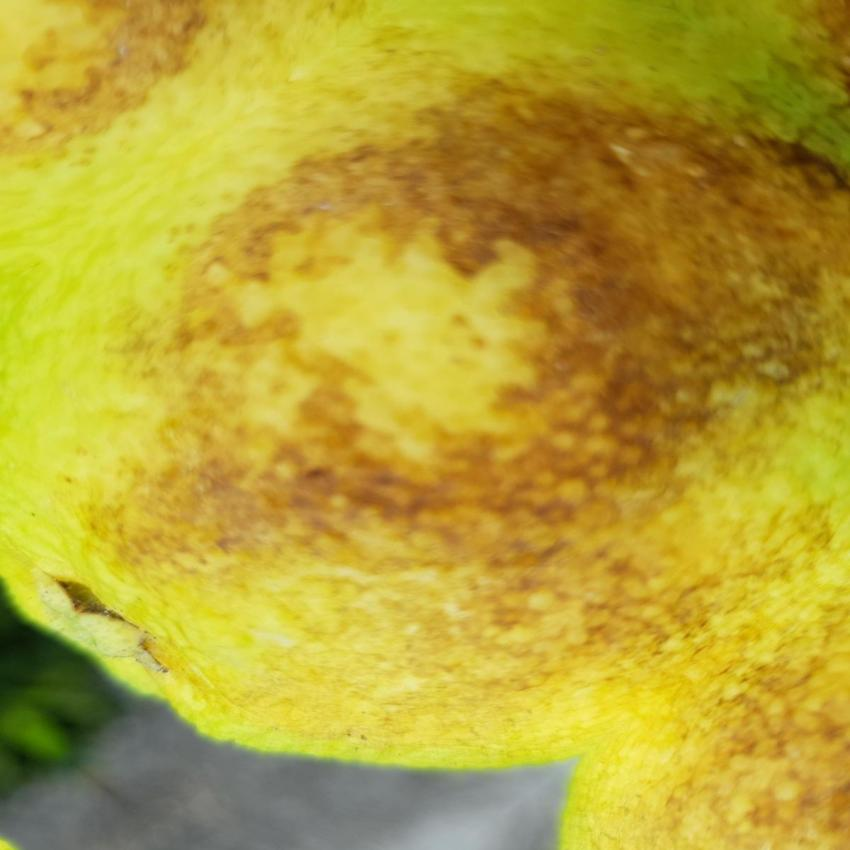Mal estado: (5, 0, 850, 767)
